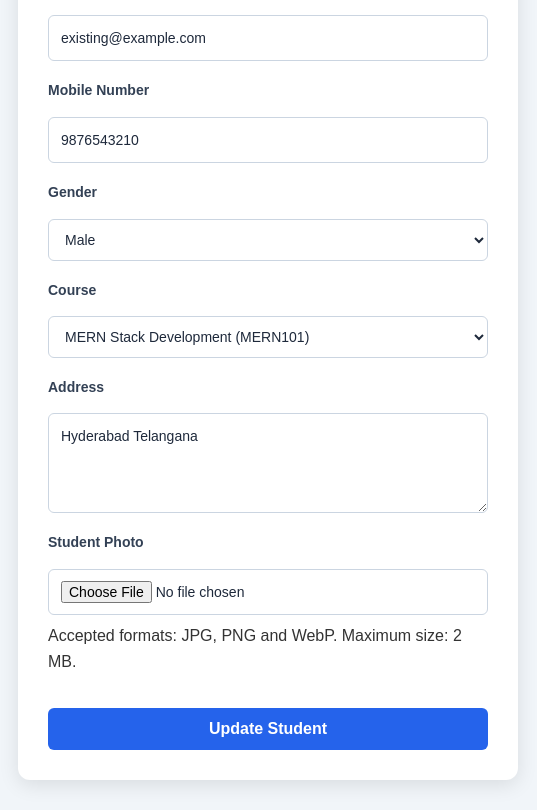
Scenario: StudentForm Component › should display an error when student update fails
(page scrolled)
Step 1. Click the button "Update Student" → click(268, 729), box x1=48 y1=708 x2=488 y2=750
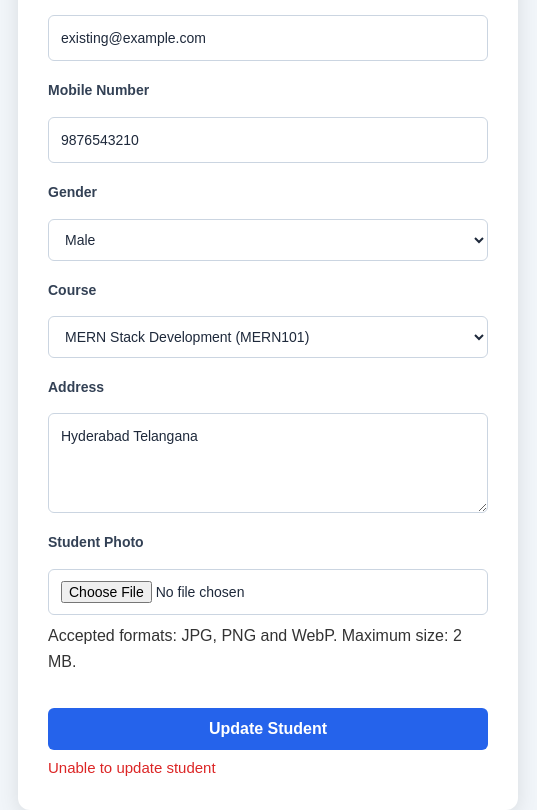
Result: the text "Unable to update student" is shown at x1=48 y1=759 x2=216 y2=776
